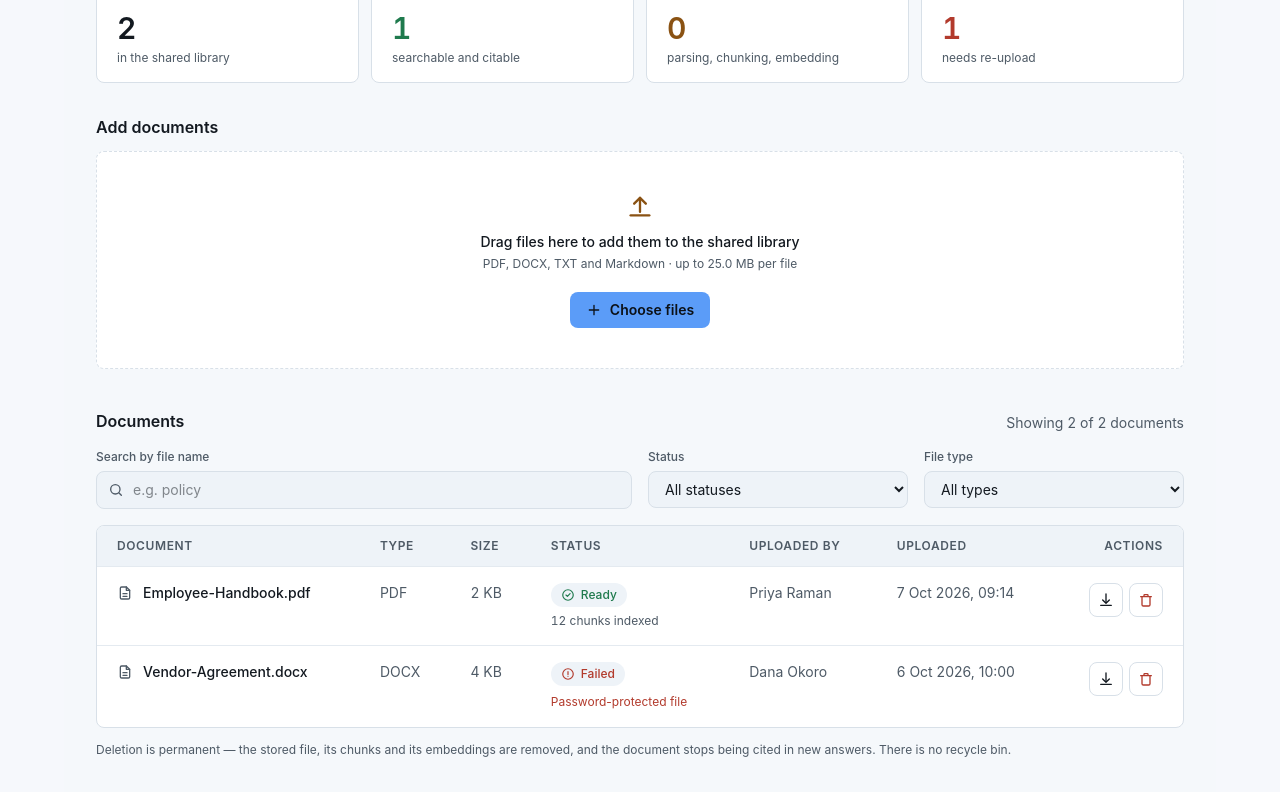
Scenario: KnowledgeBase › AC-035: on confirm, stats update live without a manual refresh
(page scrolled)
Check: the text "Employee-Handbook.pdf" is shown, box left=143, top=582, right=311, bottom=602
Check: the text "2" is shown, box left=117, top=10, right=136, bottom=46
Click the button named "Delete Employee-Handbook.pdf". click: (1146,600)
box: left=1129, top=582, right=1163, bottom=616
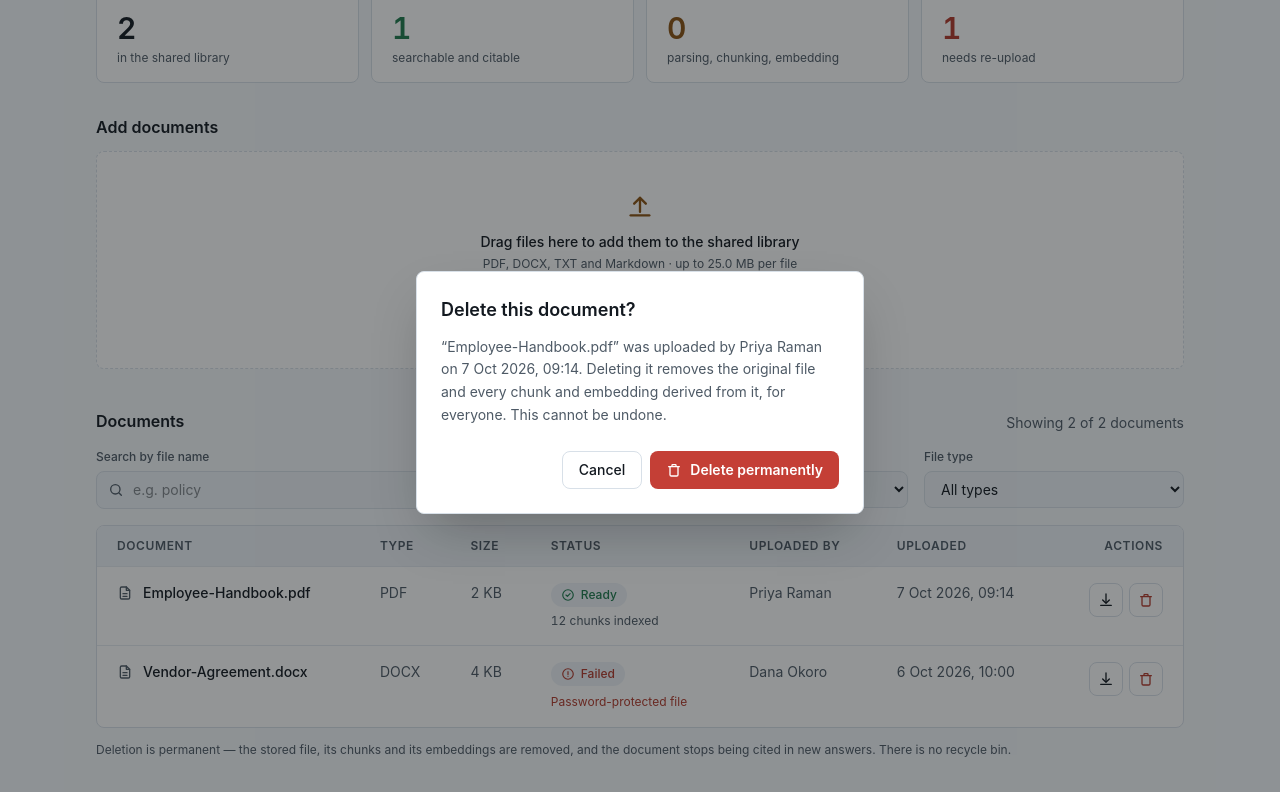
Click the button "Delete permanently". click: (745,470)
box: left=650, top=450, right=839, bottom=488
(page scrolled)
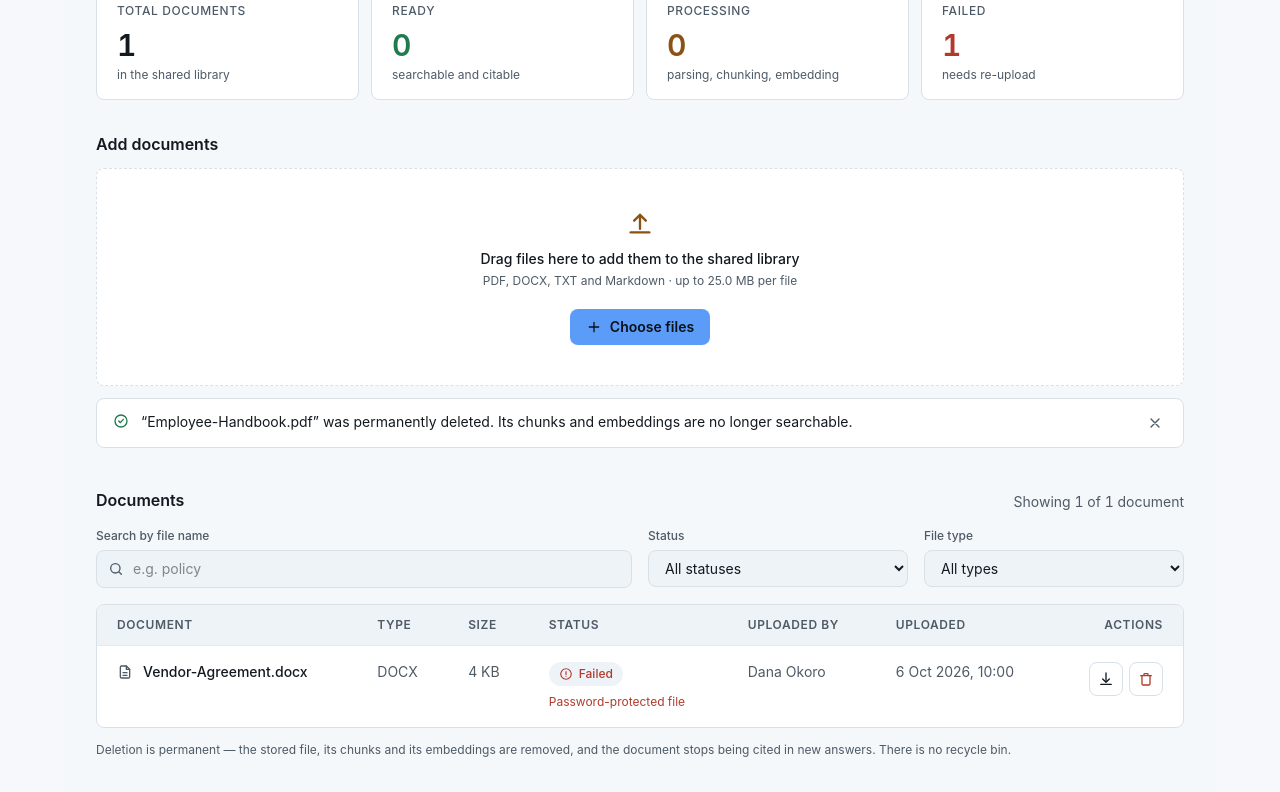
Check: the text "1" below "Total documents" is shown, box left=117, top=26, right=136, bottom=62
